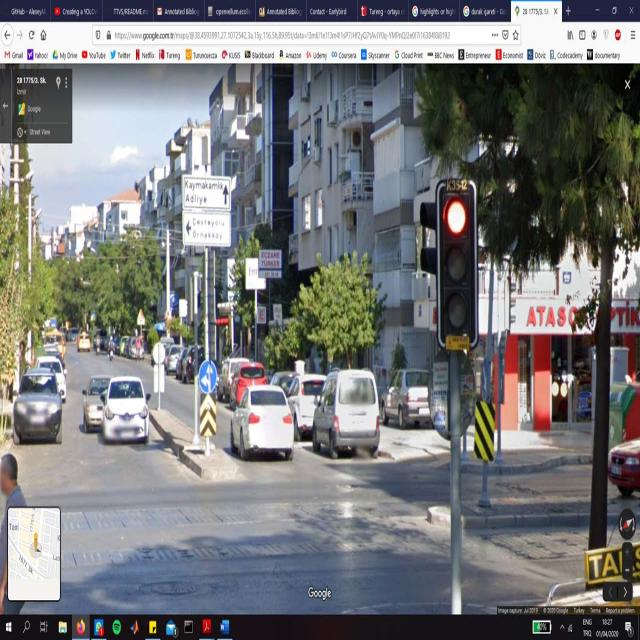ilerisol: (200, 362, 216, 392)
kirmizi: (437, 181, 477, 355)
